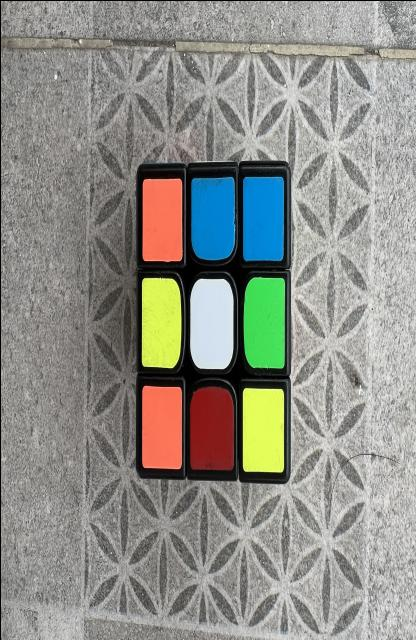Blue: (190, 175, 234, 260), (242, 175, 283, 260)
Green: (242, 277, 284, 368)
Orange: (141, 177, 181, 262), (141, 385, 181, 468)
Red: (188, 385, 232, 470)
White: (189, 277, 232, 368)
Yellow: (241, 387, 283, 472), (141, 277, 180, 367)
